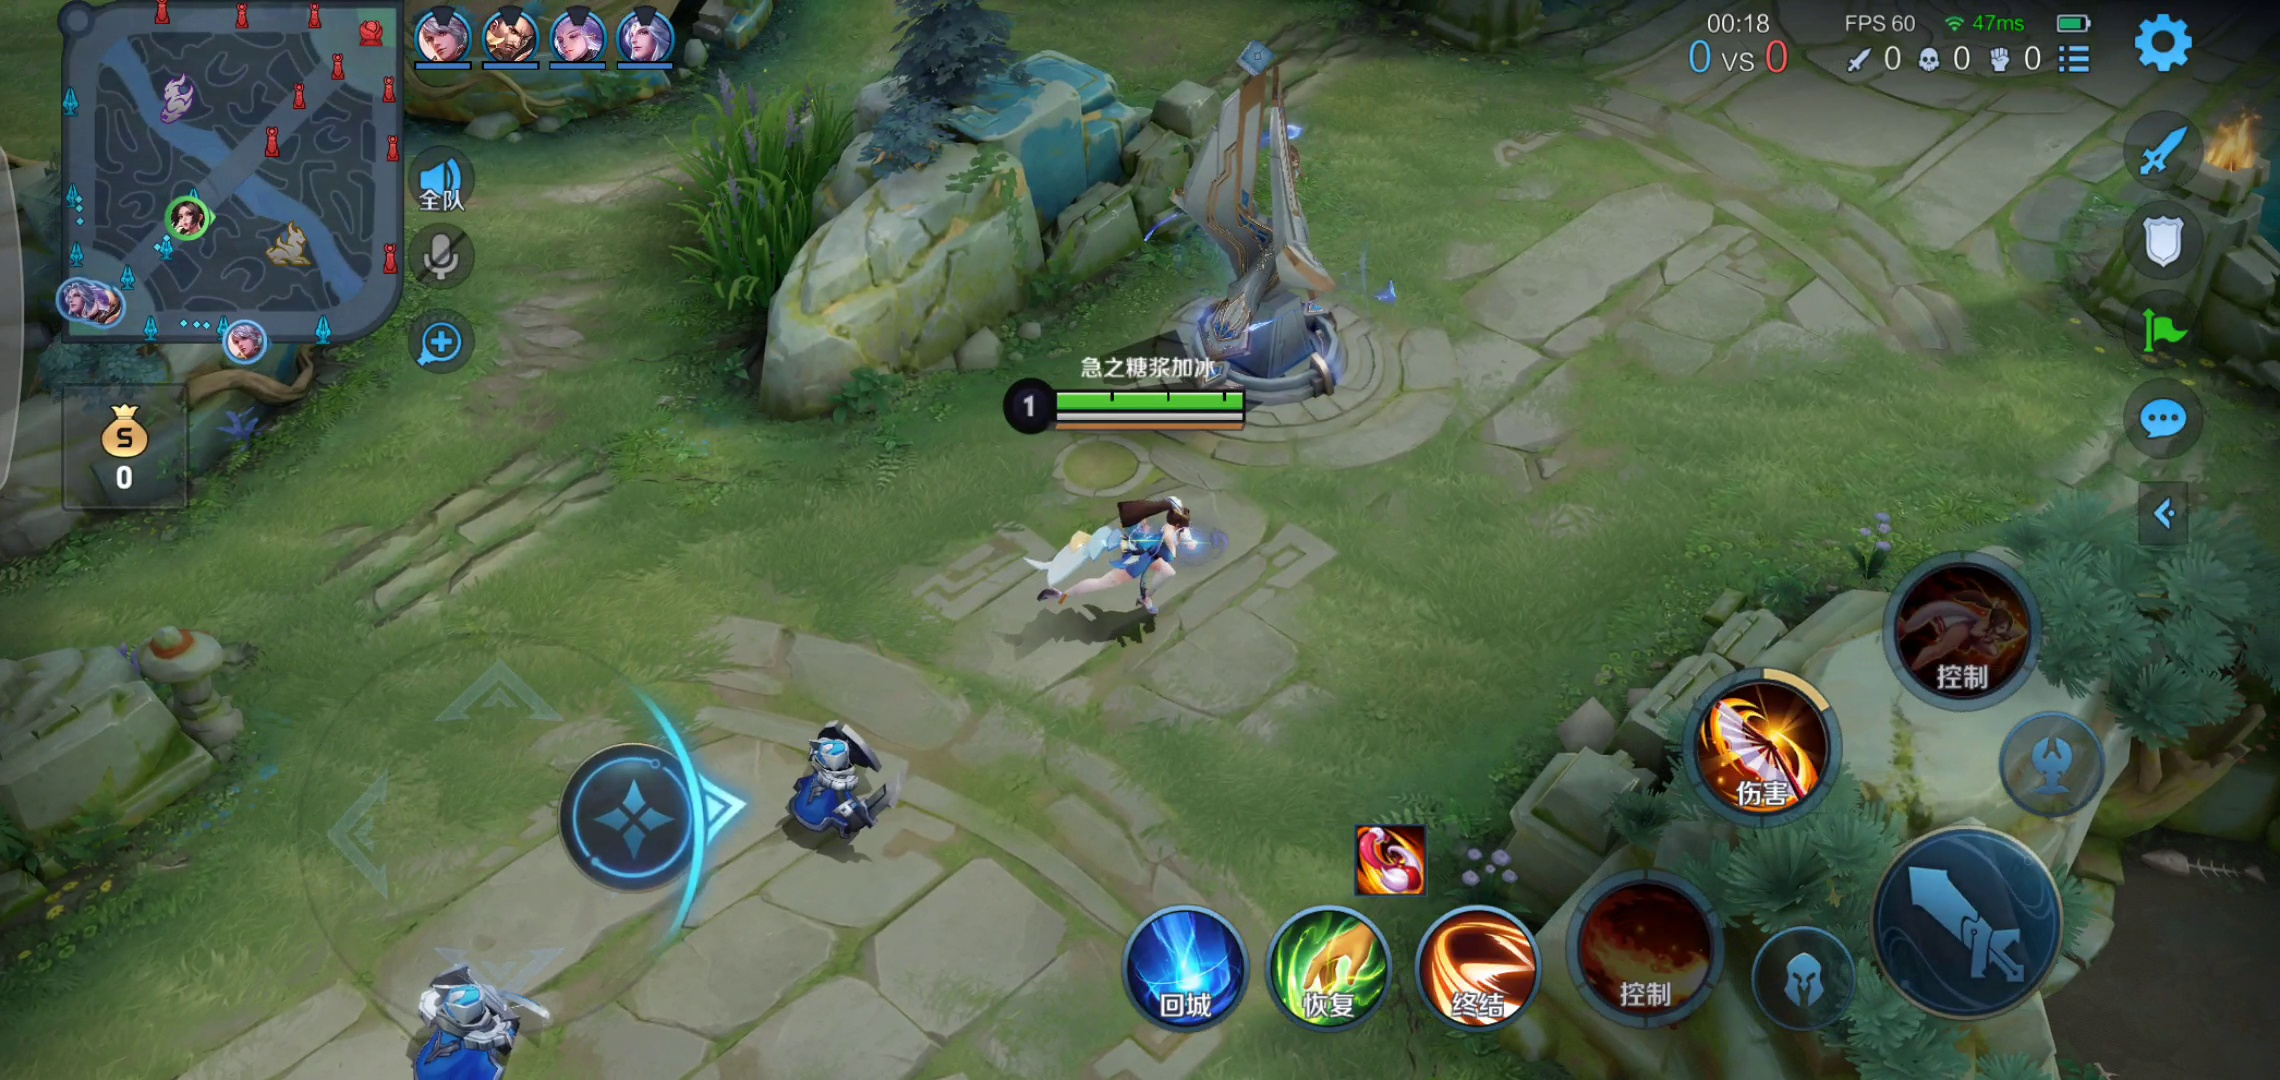grass: (672, 80, 843, 314)
hero: (1019, 481, 1216, 653)
soldier: (380, 951, 545, 1080), (768, 698, 894, 855)
tower: (1133, 39, 1362, 411)
